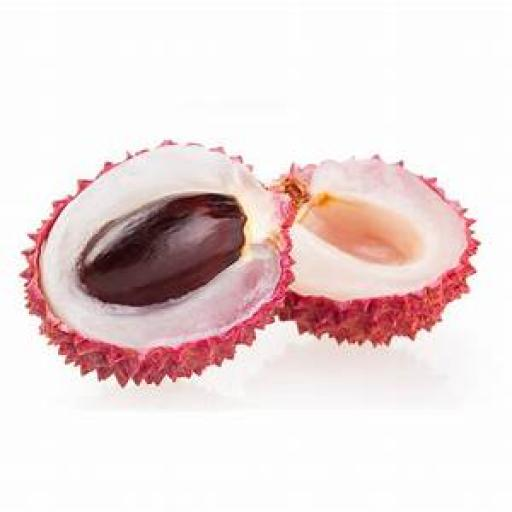lychee: (20, 137, 309, 389), (275, 153, 483, 350)
